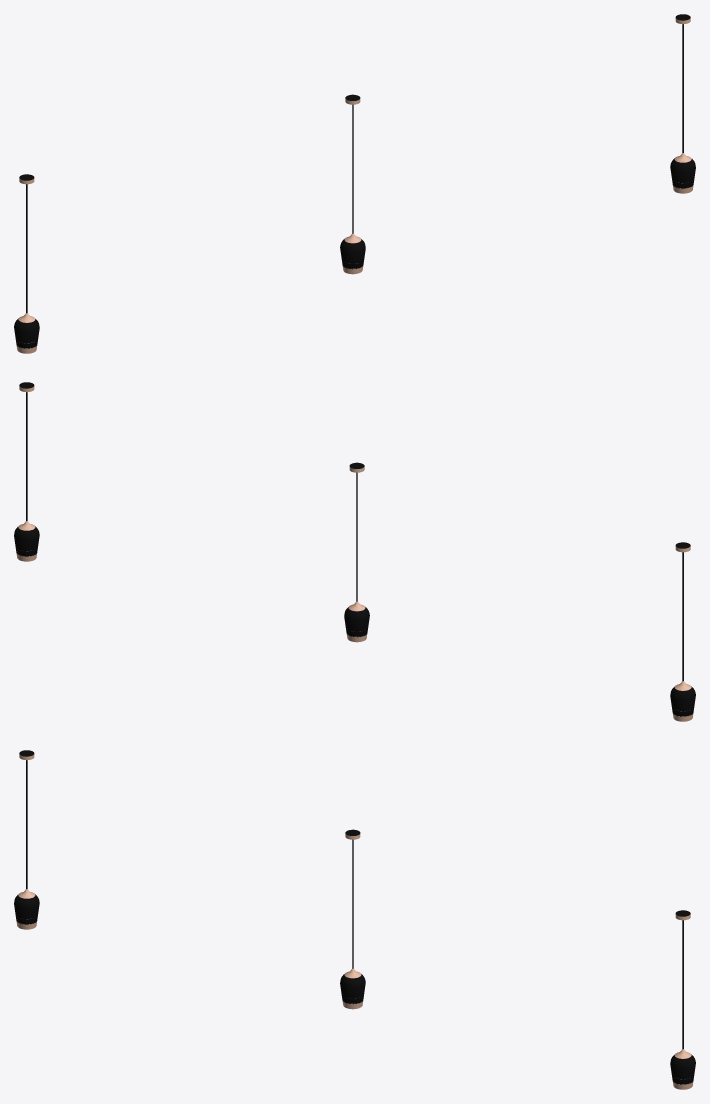
File: ALCOVE-LAMPS.glb
3 renders of one model, top to bottom at view 1: azimuth 30°, elevation 25°; view 2: azimuth 150°, elevation 25°; view 3: azimuth 330°, elevation 25°, orthographic.
Parts seen in each view (by area): view 1: 7-ALCOVE-LAMPS; view 2: 7-ALCOVE-LAMPS; view 3: 7-ALCOVE-LAMPS.
Boxes of the visible parts, x1,y1,x2,y2 form: 7-ALCOVE-LAMPS: [14, 14, 695, 353]; 7-ALCOVE-LAMPS: [14, 382, 695, 721]; 7-ALCOVE-LAMPS: [14, 750, 695, 1089].
Bounding box in the file's own units: 5.19 × 1.26 × 0.1715.
